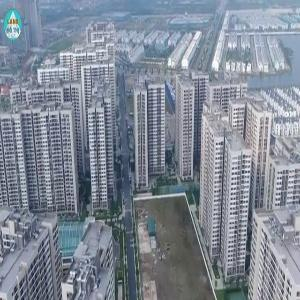drone: (6, 40, 64, 98)
